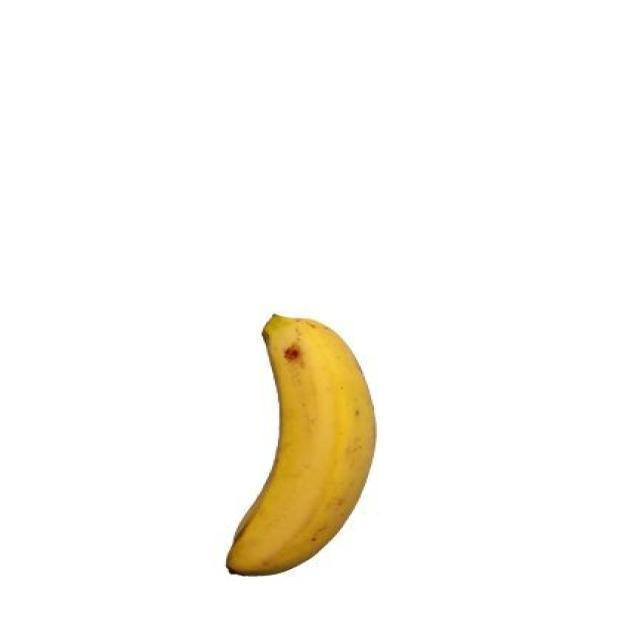Banana: (218, 306, 384, 584)
